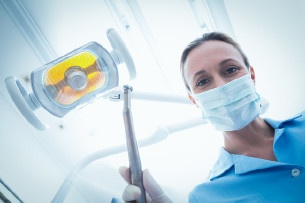Mask: (191, 58, 260, 126)
